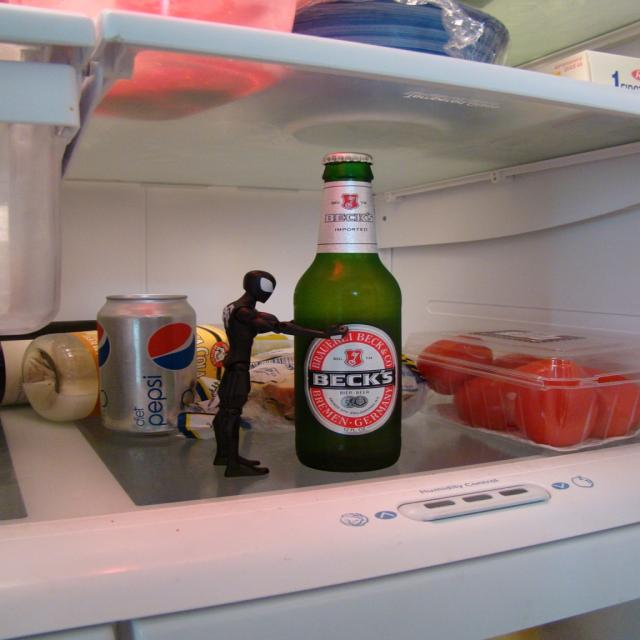becks: (304, 322, 400, 435)
